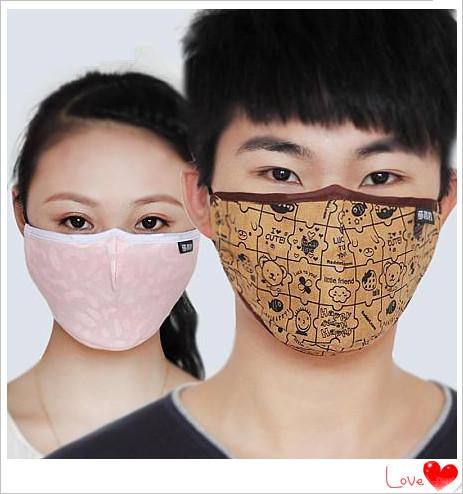OK: (213, 128, 442, 353), (27, 183, 193, 351)
